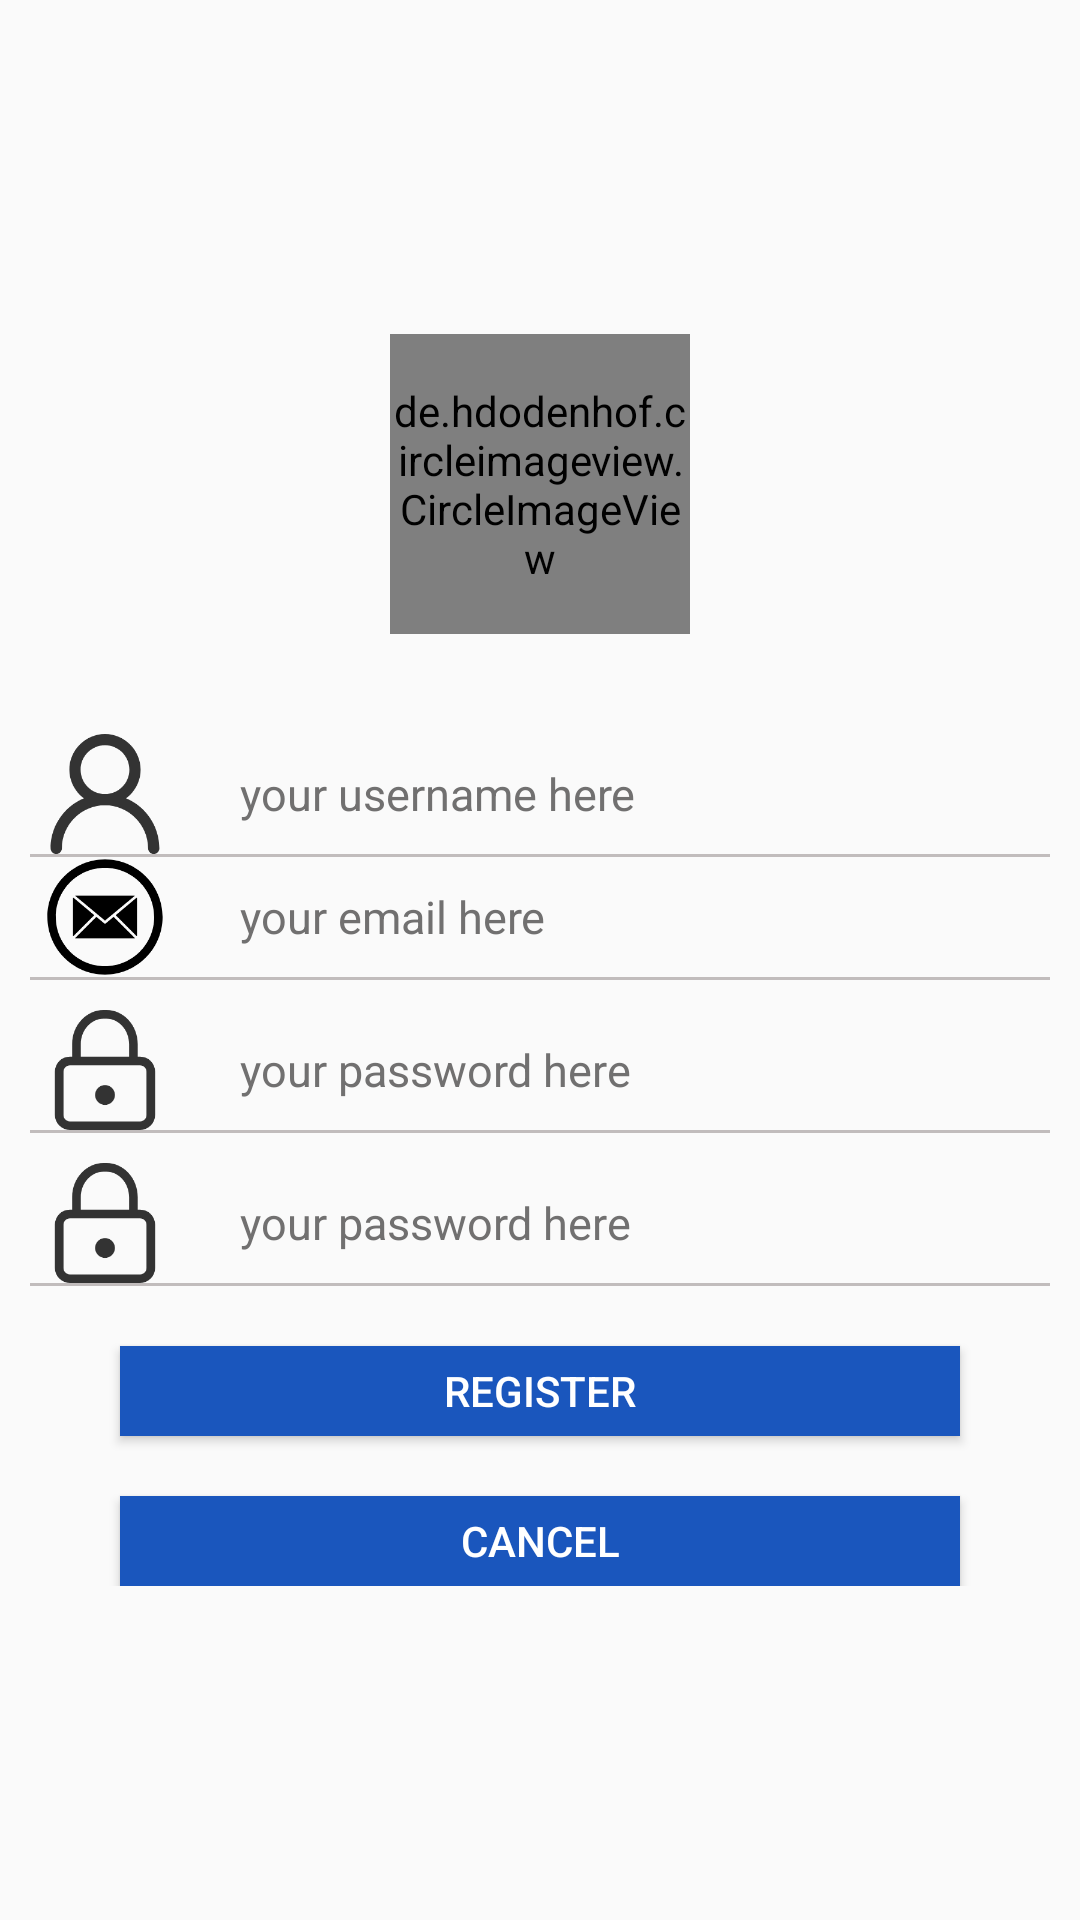

Named icons in this screenshot (1080 x 1920) and their bounding boxes, detection(x1, y1, x2, y2):
user password: detection(54, 1010, 156, 1130), detection(54, 1163, 156, 1283)
